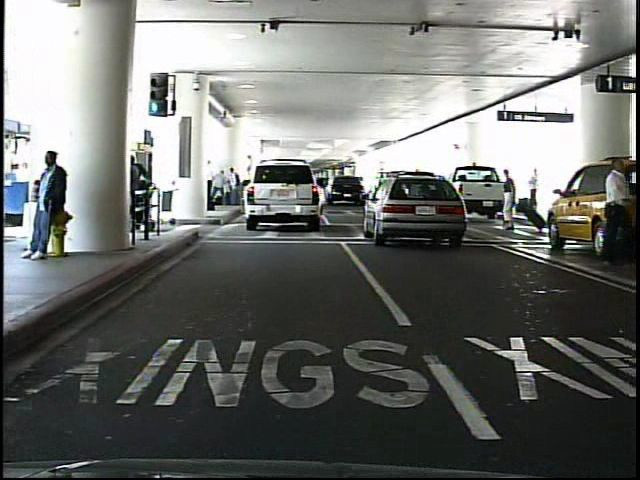person: (30, 149, 69, 262), (598, 156, 636, 264), (498, 168, 518, 232), (228, 167, 243, 208), (530, 167, 542, 215)
